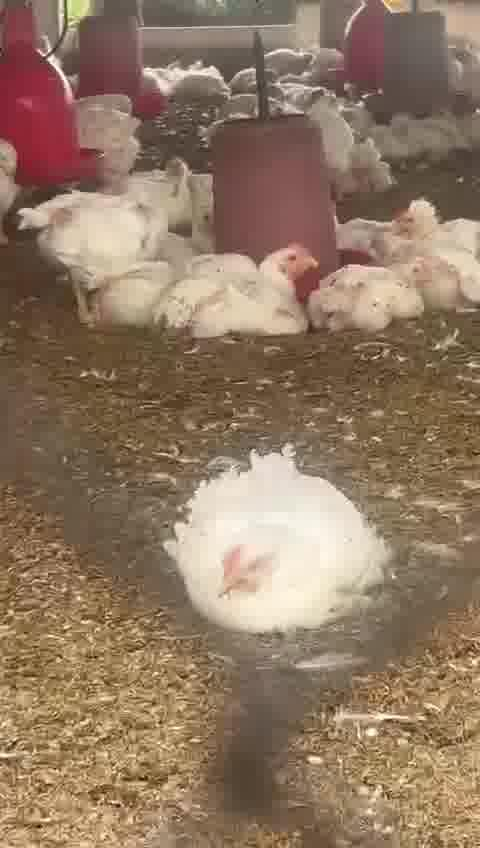AbNormal: (183, 458, 386, 639), (163, 241, 320, 336), (321, 258, 432, 328)
Normal: (26, 188, 166, 317)
